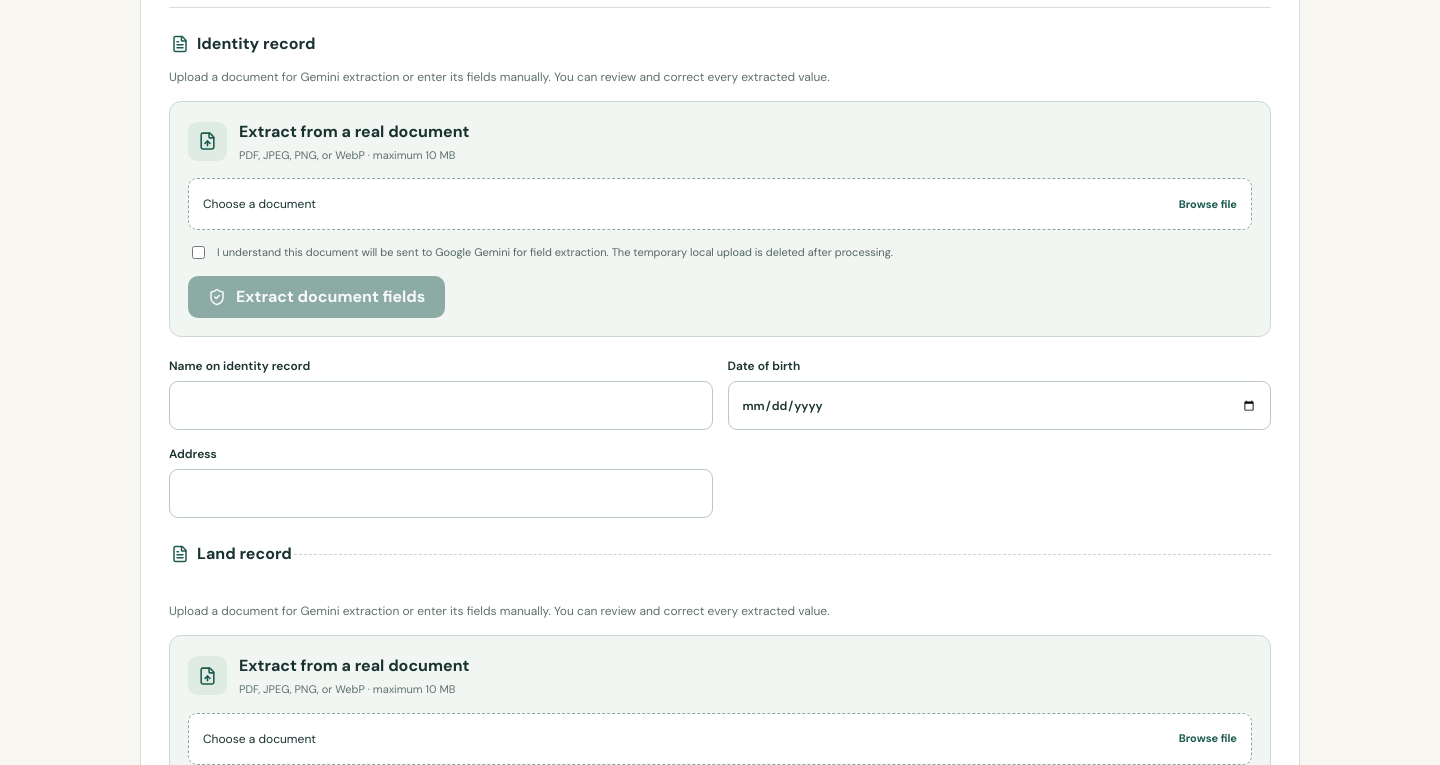
Test: readiness check flow › blocks review when scheme questions are unanswered
The image size is (1440, 765).
(page scrolled)
Type "Ravi Kumar" into the field labelled "Name on identity record" at (441, 406), box [169, 381, 712, 430]
(page scrolled)
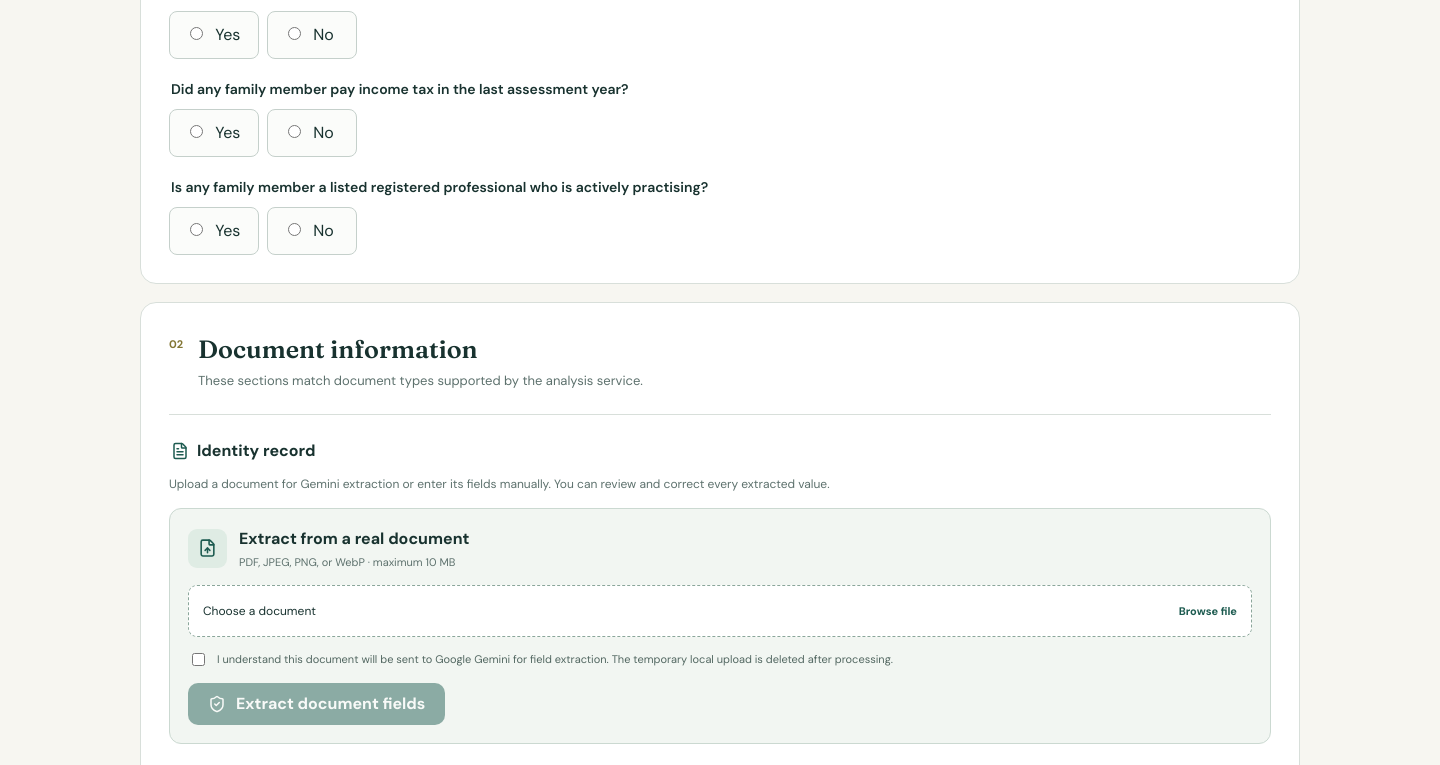
Submit the form named "review information"
(page scrolled)
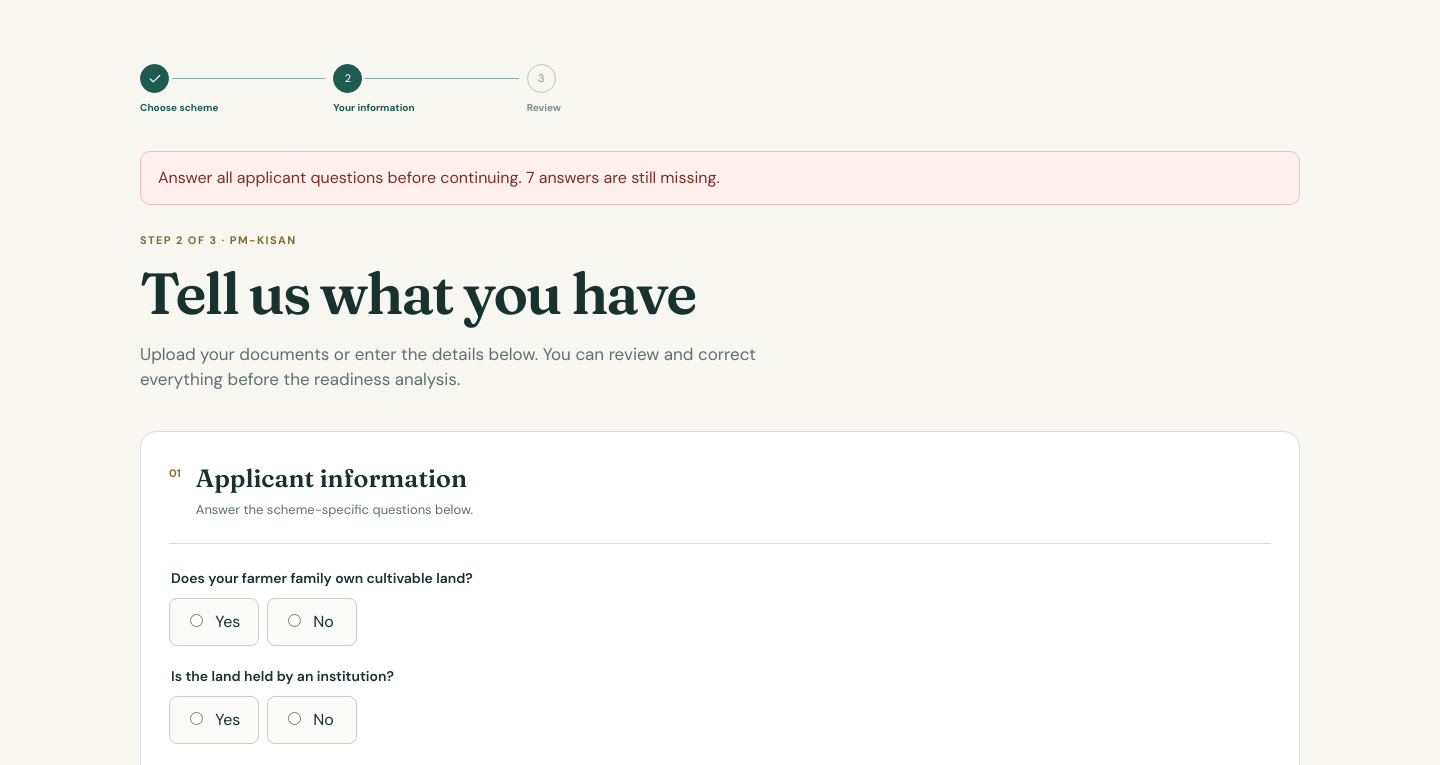
Now the text "7 answers are still missing" is shown, box [158, 167, 720, 188]
